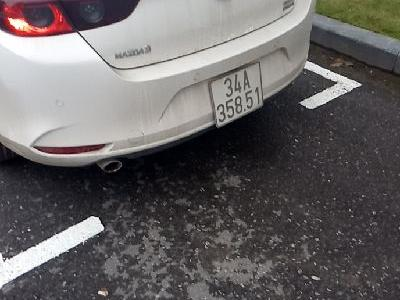car: (208, 61, 265, 130)
